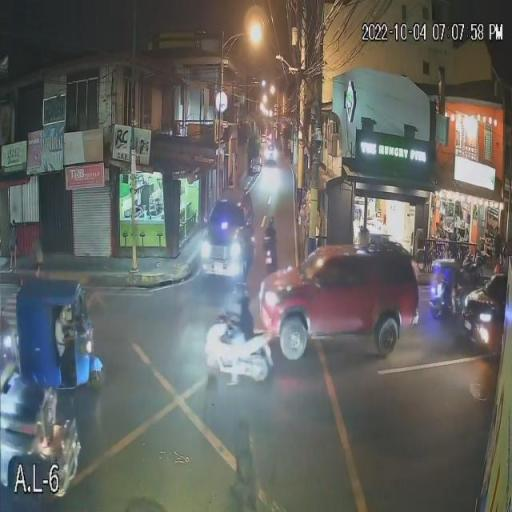helmet: (231, 282, 255, 302), (265, 215, 276, 226)
motorcycle: (198, 317, 279, 383), (262, 234, 279, 276)
rider: (228, 306, 256, 390), (264, 226, 279, 252)
